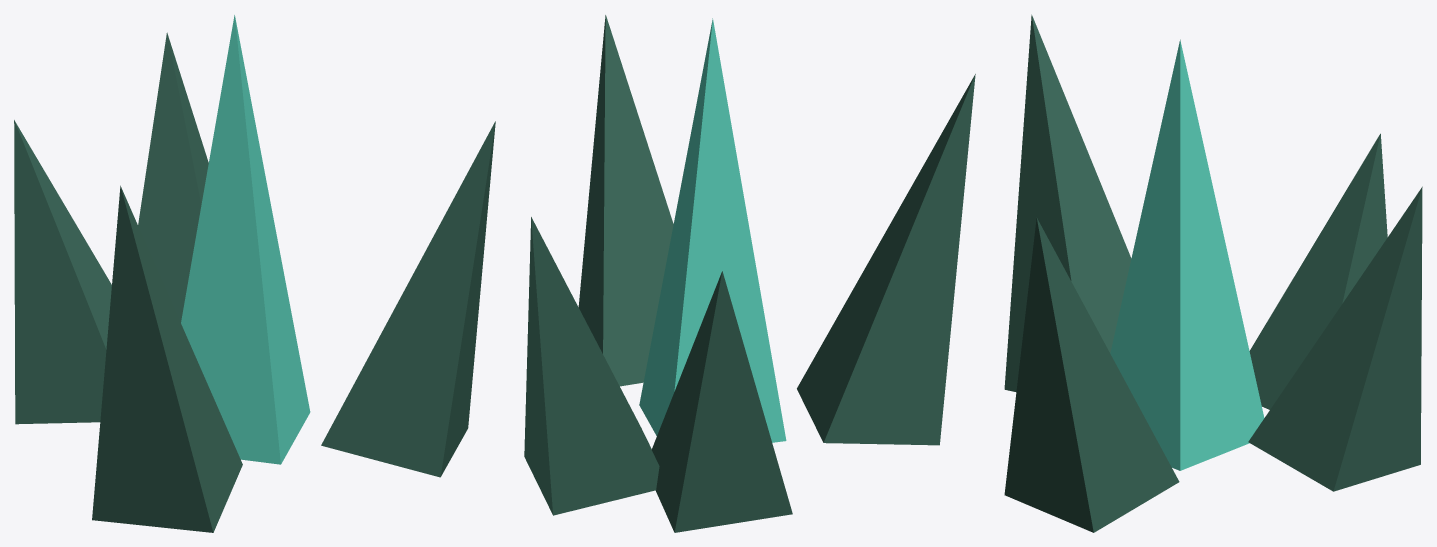
Rendered from env_r14_seaweed_clump.glb.
3 views of the same model, side by side, from view 1: azimuth 30°, elevation 25°; view 2: azimuth 150°, elevation 25°; view 3: azimuth 270°, elevation 25° (orthographic). The views are drawn at different scales.
Parts seen in each view (by area): view 1: env_r14_seaweed_clump; view 2: env_r14_seaweed_clump; view 3: env_r14_seaweed_clump.
Part boxes in pixels (x1,y1,x2,y2): env_r14_seaweed_clump: [14, 15, 495, 532]; env_r14_seaweed_clump: [524, 15, 975, 532]; env_r14_seaweed_clump: [1004, 14, 1422, 532].
Bounding box in the file's own units: 1.3 × 1.4 × 1.3.
Materials: 1 (1 with a texture image).
